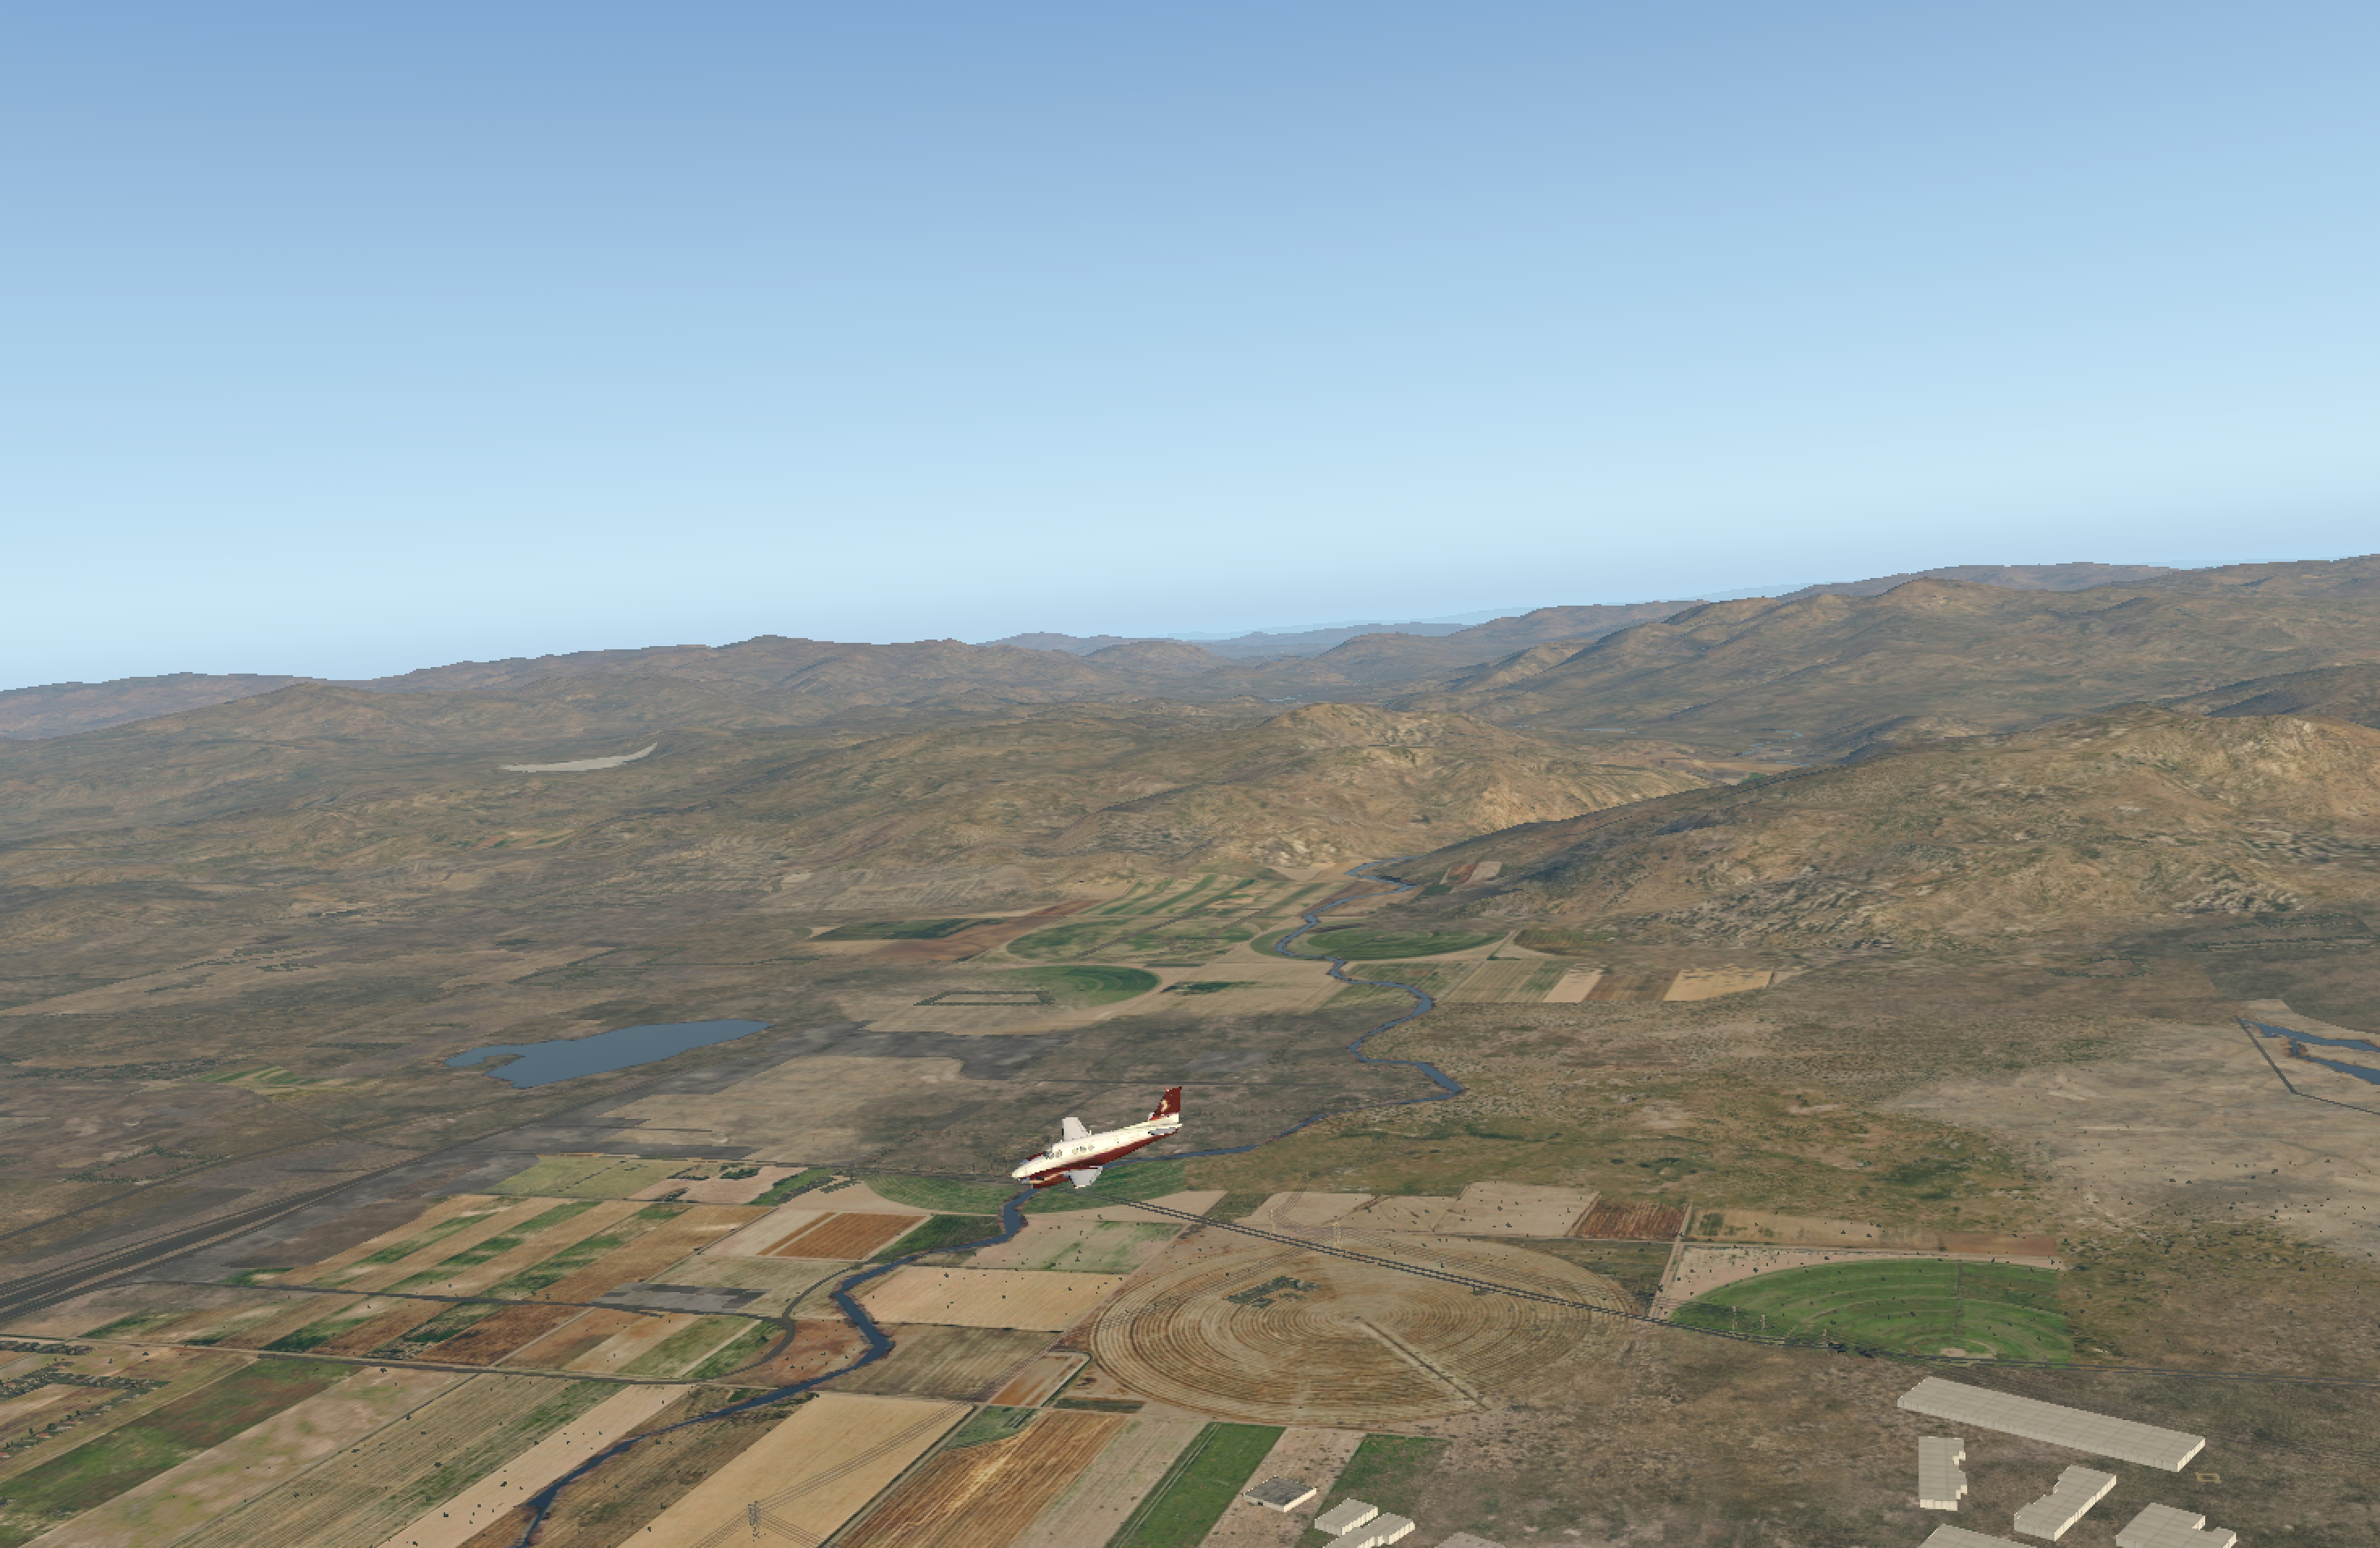aircraft: (940, 1119, 1204, 1218)
